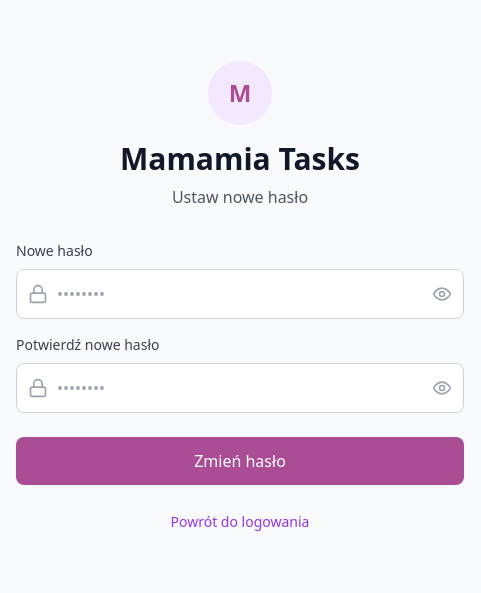
Test: ResetPasswordForm › successfully updates password
The width and height of the screenshot is (481, 593).
Type "newpassword123" into the password field labelled "Nowe hasło".
click(240, 294); type("newpassword123")  # box [16,269,464,319]
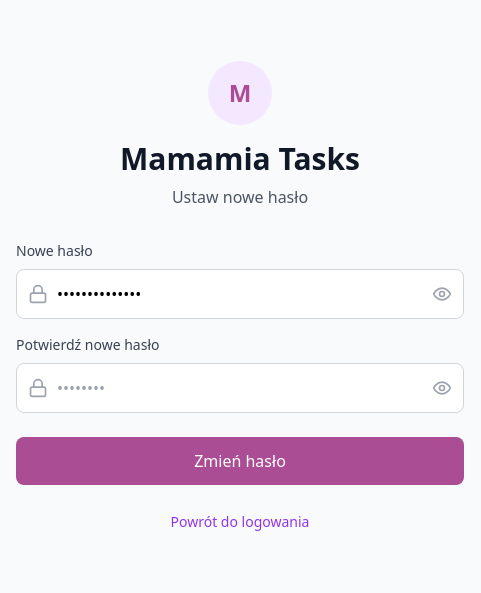
Type "newpassword123" into the password field labelled "Potwierdź nowe hasło".
click(240, 388); type("newpassword123")  # box [16,363,464,413]
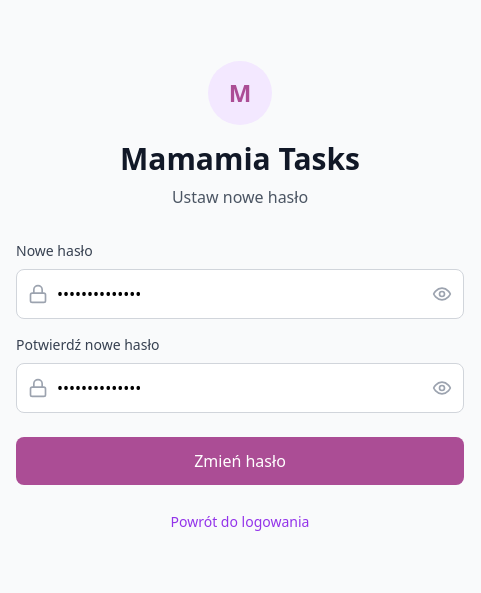
Click the button "Zmień hasło".
click(240, 461)  # box [16,437,464,485]
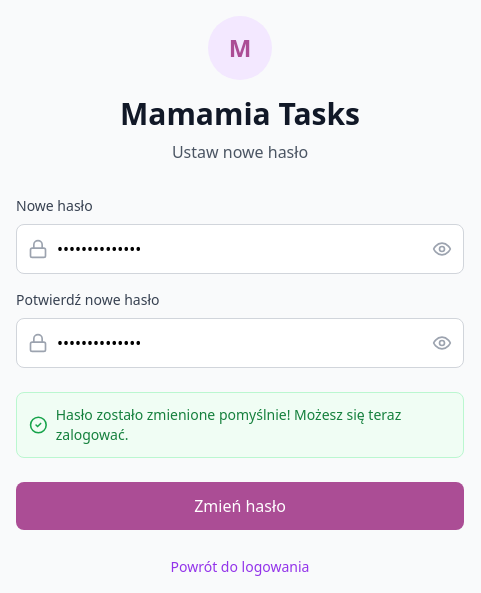
Check: the text "Hasło zostało zmienione pomyślnie" is shown, box [56,405,401,444]
